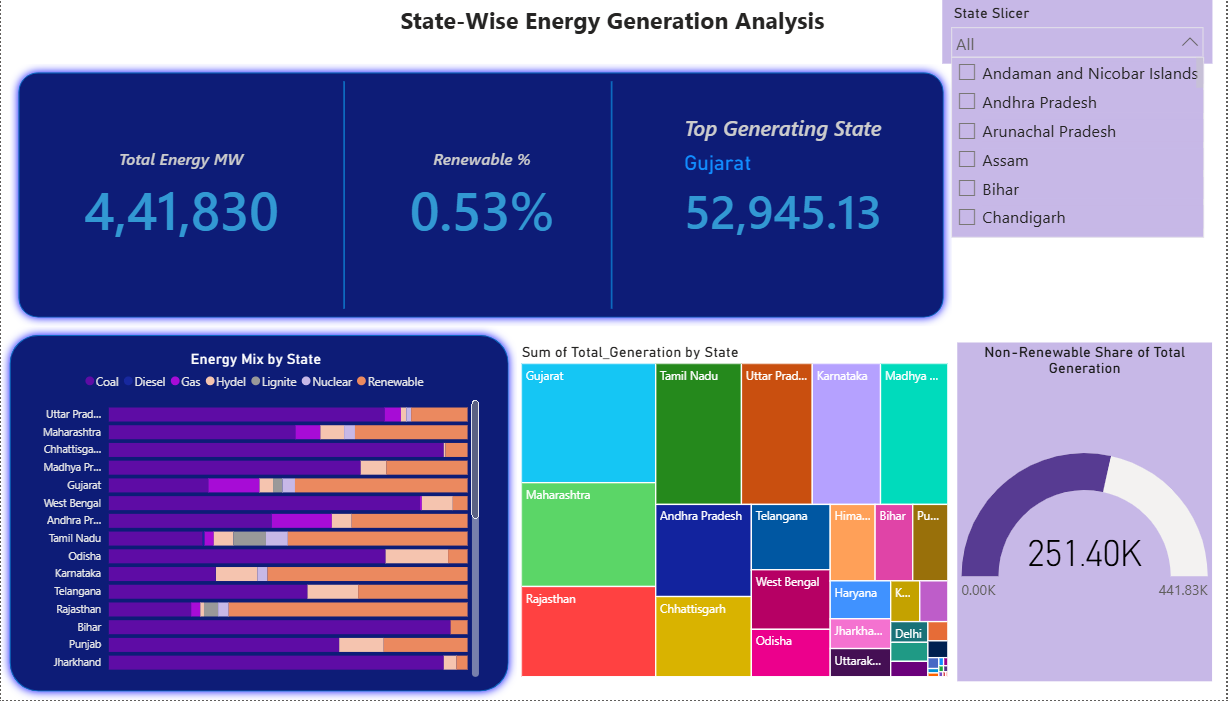

The page's visual inventory and layout, read from the dashboard file:
{"tool":"powerbi","page":{"name":"Page 1","canvas":[1400,800],"ordinal":0},"visuals":[{"type":"textbox","box":[451.4,0,497.1,52.9],"z":0},{"type":"shape","box":[10,72.9,1077.1,300],"z":1000},{"type":"cardVisual","fields":{"Data":["Sum(Sheet1.Total_Generation)","Sheet1.Average Renewable Pct"]},"box":[32.9,92.9,691.4,261.4],"z":2000},{"type":"slicer","fields":{"Values":["Sheet1.State"]},"box":[1075.7,0,308.6,72.9],"z":3000},{"type":"multiRowCard","title":"Top Generating State","fields":{"Values":["Sheet1.State","Sum(Sheet1.Total_Generation)"]},"box":[775.7,130,258.6,184.3],"z":4000},{"type":"shape","box":[0,372.9,590,427.1],"z":5000},{"type":"hundredPercentStackedBarChart","title":"Energy Mix by State","fields":{"Category":["Sheet1.State"],"Y":["Sum(Sheet1.Coal)","Sum(Sheet1.Diesel)","Sum(Sheet1.Gas)","Sum(Sheet1.Hydel)","Sum(Sheet1.Lignite)","Sum(Sheet1.Nuclear)","Sum(Sheet1.Other Renewable)"]},"box":[31.4,400,520,378.6],"z":6000},{"type":"shape","box":[245.7,92.9,292.9,260],"z":7000},{"type":"shape","box":[551.4,92.9,292.9,260],"z":8000},{"type":"treemap","fields":{"Group":["Sheet1.State"],"Values":["Sum(Sheet1.Total_Generation)"]},"box":[590,391.4,497.1,387.1],"z":8001},{"type":"gauge","title":"Non-Renewable Share of Total Generation","fields":{"Y":["Sum(Sheet1.Total_Non_Renewable)"],"MaxValue":["Sum(Sheet1.Total_Generation)"]},"box":[1092.9,391.4,291.4,387.1],"z":8002}]}

Visuals, with their boxes in screenshot pixels (x1, y1, x2, y2), scaled from the page's 1400x800 canvas onto the 1228x702 screenshot:
textbox: x1=396, y1=0, x2=832, y2=46
shape: x1=9, y1=64, x2=954, y2=327
cardVisual - Sum(Sheet1.Total_Generation) x Sheet1.Average Renewable Pct: x1=29, y1=82, x2=635, y2=311
slicer - Sheet1.State: x1=944, y1=0, x2=1214, y2=64
"Top Generating State" multiRowCard: x1=680, y1=114, x2=907, y2=276
shape: x1=0, y1=327, x2=518, y2=701
"Energy Mix by State" hundredPercentStackedBarChart: x1=28, y1=351, x2=484, y2=683
shape: x1=216, y1=82, x2=472, y2=310
shape: x1=484, y1=82, x2=741, y2=310
treemap - Sheet1.State x Sum(Sheet1.Total_Generation): x1=518, y1=343, x2=954, y2=683
"Non-Renewable Share of Total Generation" gauge: x1=959, y1=343, x2=1214, y2=683
